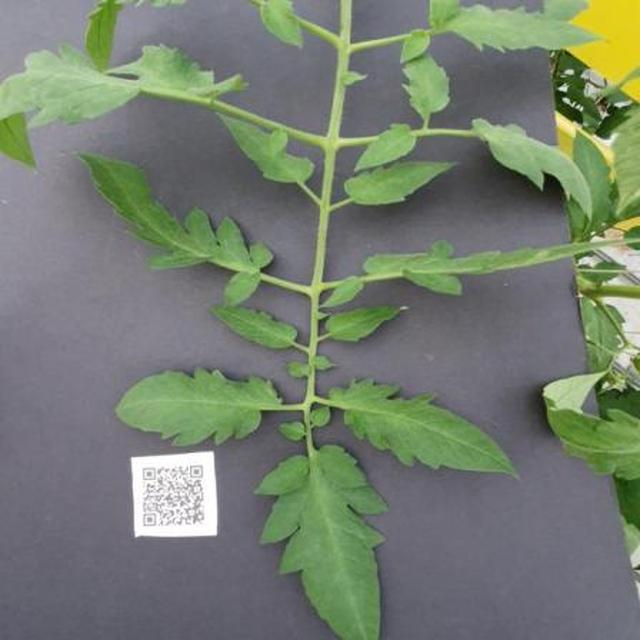Healthy Leaf: (72, 38, 640, 640)
